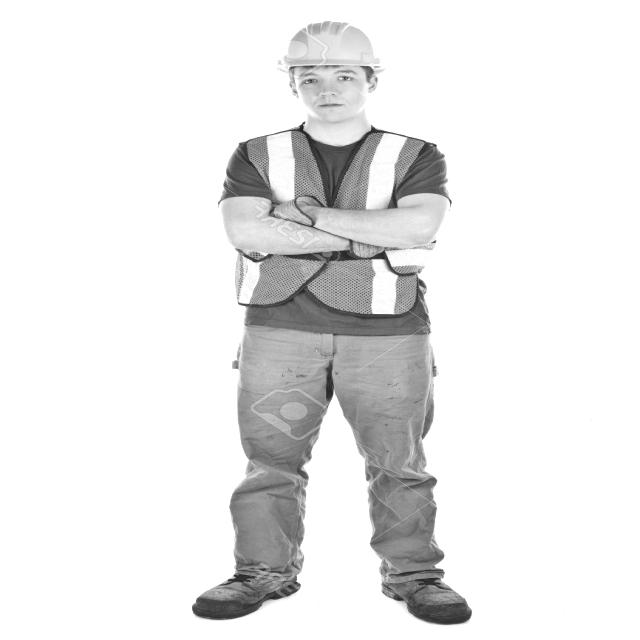face_nomask: (298, 64, 369, 118)
head_helmet: (273, 20, 382, 72)
person: (169, 12, 464, 620)
shoes: (369, 560, 476, 627), (186, 568, 312, 623)
vest: (213, 131, 434, 299)
